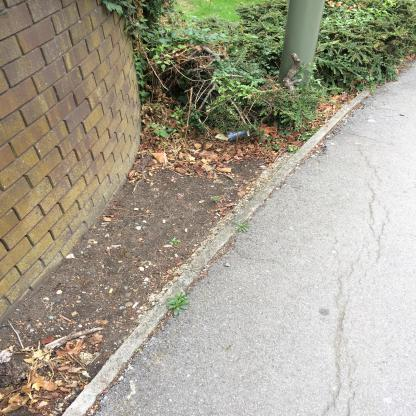plastik: (228, 130, 248, 142)
